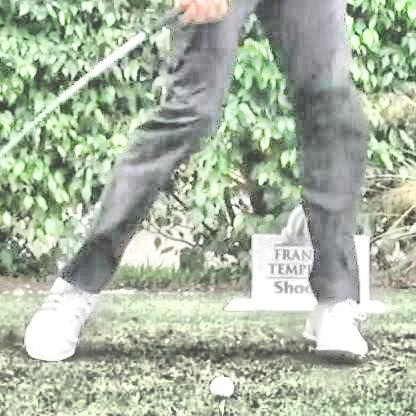golfball: (206, 372, 233, 397)
